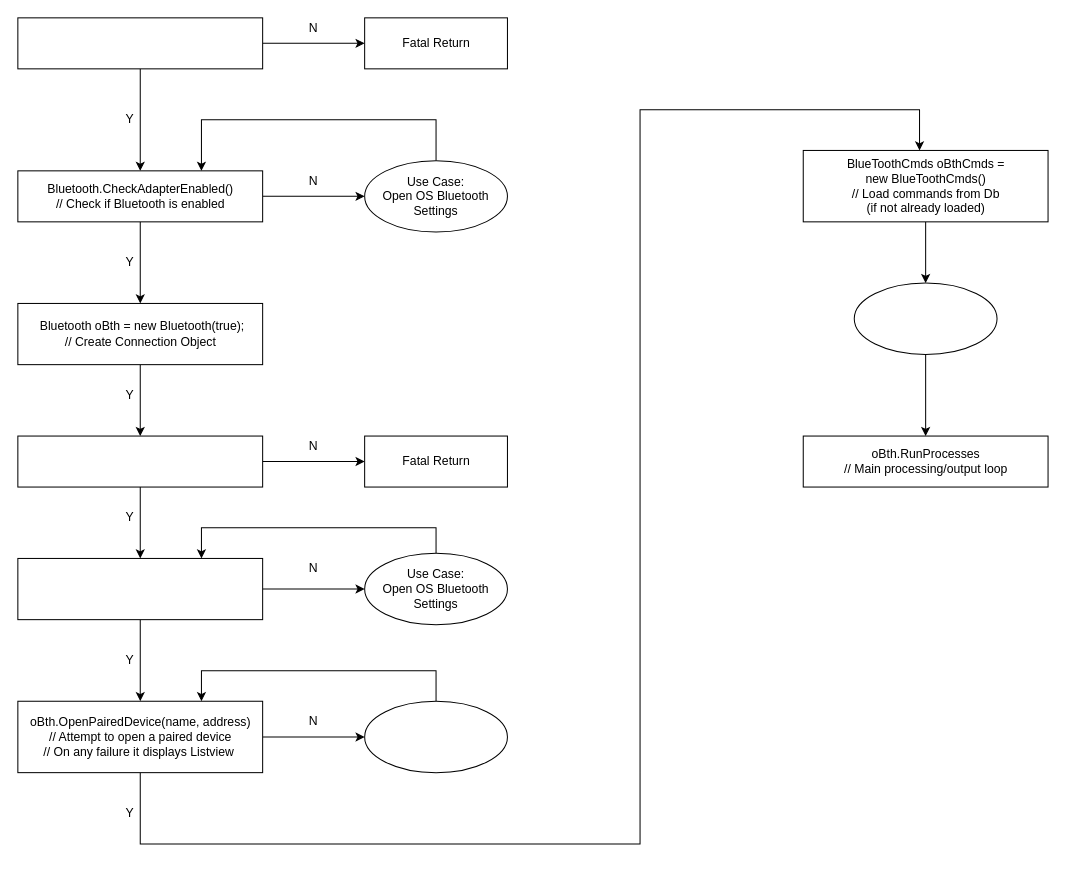
Some shapes in this 1066 by 870 pixel diagram are drawn without their labels. The shapes that lost their labels are listed below. From the top down, each one's centre as x and y in pixels, then its label:
point 140,43: Bluetooth.CheckAdapterPresent() // Check if phone has Bluetooth
point 925,318: Use Case: Run Start/Stop
point 140,461: oBth.LoadPairedDevices() // Verify we can load paired devices
point 140,588: oBth.CheckPairedDevices() // Check for any paired devices
point 435,736: Use Case: Listview selection of paired devices
